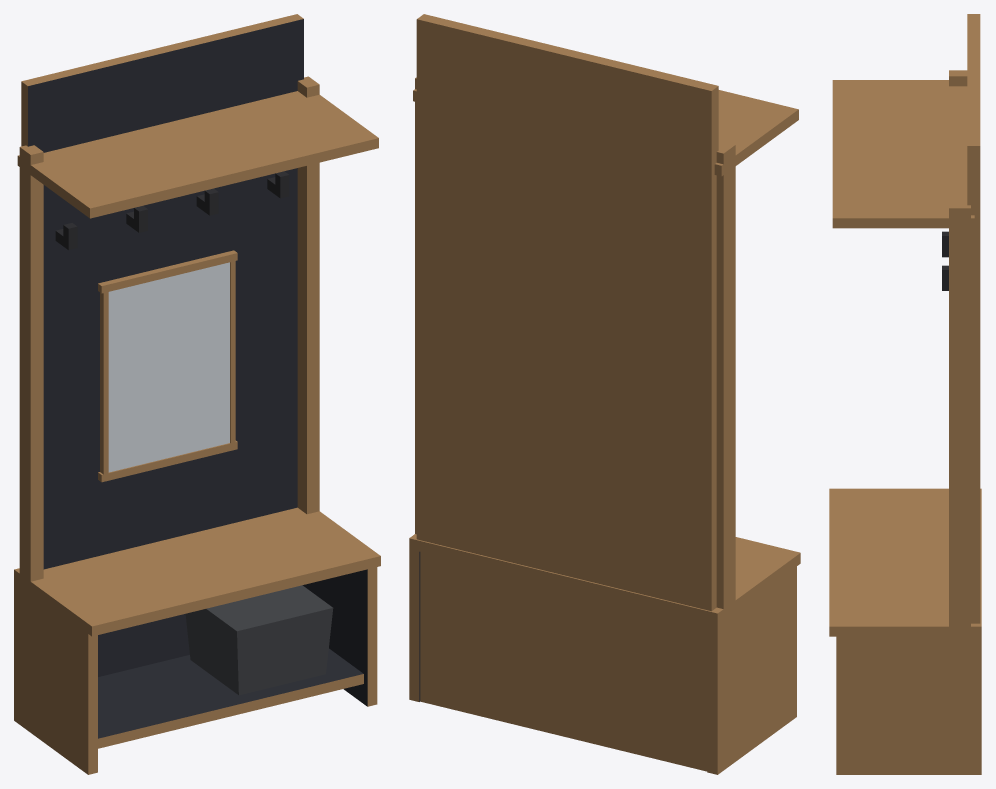
The model's file is FN_Hall_Tree.glb.
The picture shows the model from 3 angles, left to right: view 1: azimuth 30°, elevation 25°; view 2: azimuth 150°, elevation 25°; view 3: azimuth 270°, elevation 25°; orthographic projection. The views are drawn at different scales.
Parts seen in each view (by area): view 1: FN_Hall_Tree; view 2: FN_Hall_Tree; view 3: FN_Hall_Tree.
Boxes of the visible parts, x1,y1,x2,y2 form: FN_Hall_Tree: [14, 14, 380, 774]; FN_Hall_Tree: [409, 14, 800, 774]; FN_Hall_Tree: [829, 14, 981, 774].
Bounding box in the file's own units: 0.9 × 1.9 × 0.42.
Materials: 1 (1 with a texture image).
